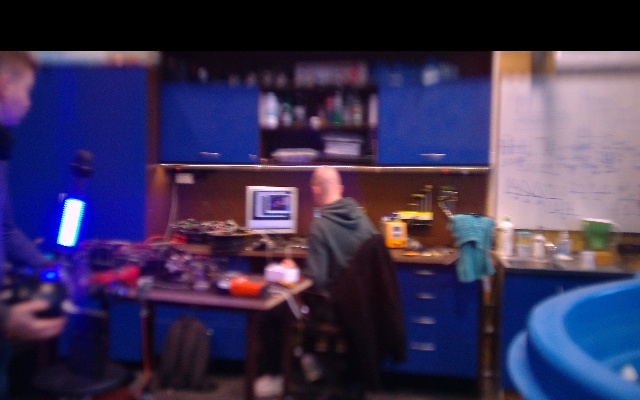blue: (56, 198, 85, 252)
